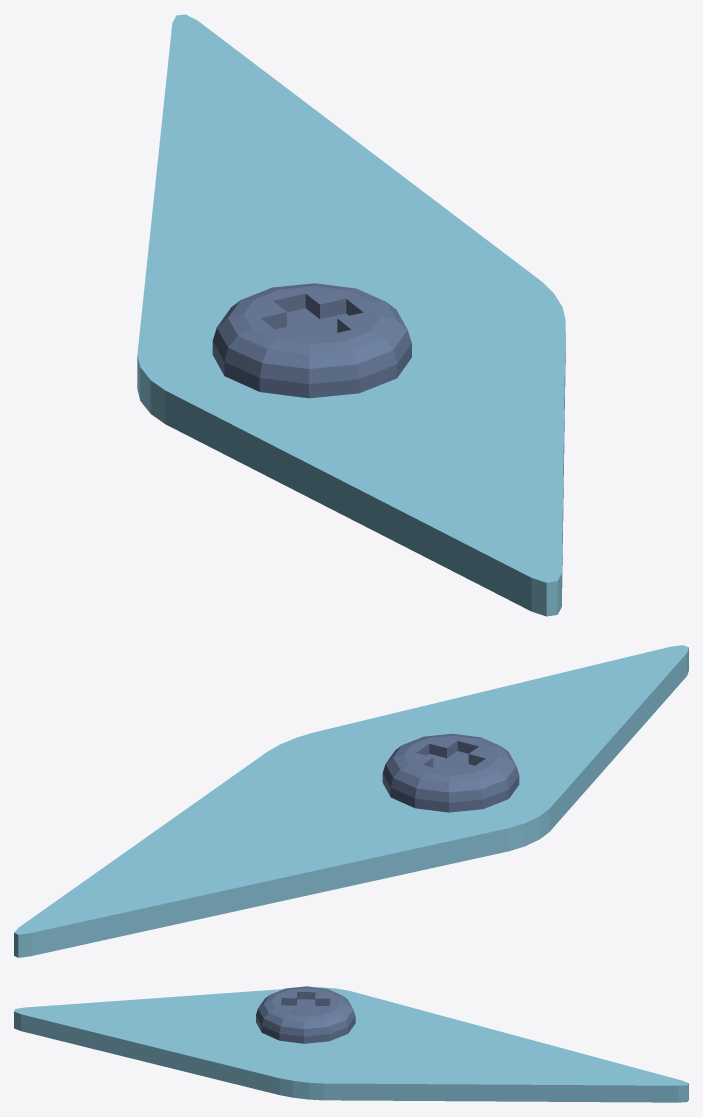
File: ABackWingL.fbx
3 renders of one model, top to bottom at view 1: azimuth 30°, elevation 25°; view 2: azimuth 150°, elevation 25°; view 3: azimuth 270°, elevation 25°, orthographic. The views are drawn at different scales.
Visible parts, largest first — view 1: ABackWing.L; view 2: ABackWing.L; view 3: ABackWing.L.
Boxes of the visible parts, left/top/right/bottom form: ABackWing.L: left=137, top=14, right=565, bottom=616; ABackWing.L: left=14, top=645, right=688, bottom=957; ABackWing.L: left=14, top=986, right=688, bottom=1102.
Bounding box in the file's own units: 151 × 26.75 × 438.
